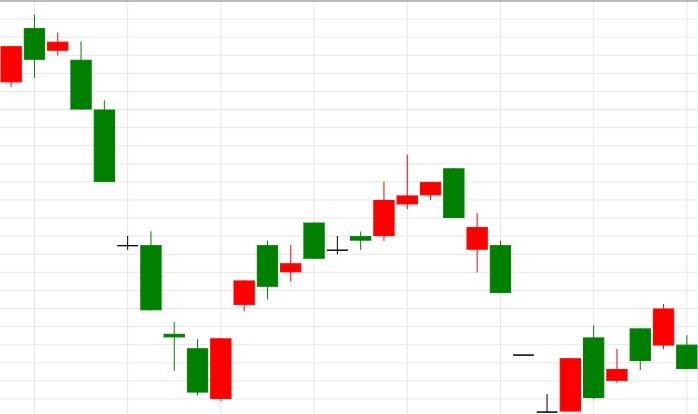bearish_engulfing_fall: (210, 154, 466, 401)
bullish_engulfing_rise: (24, 14, 233, 402)
